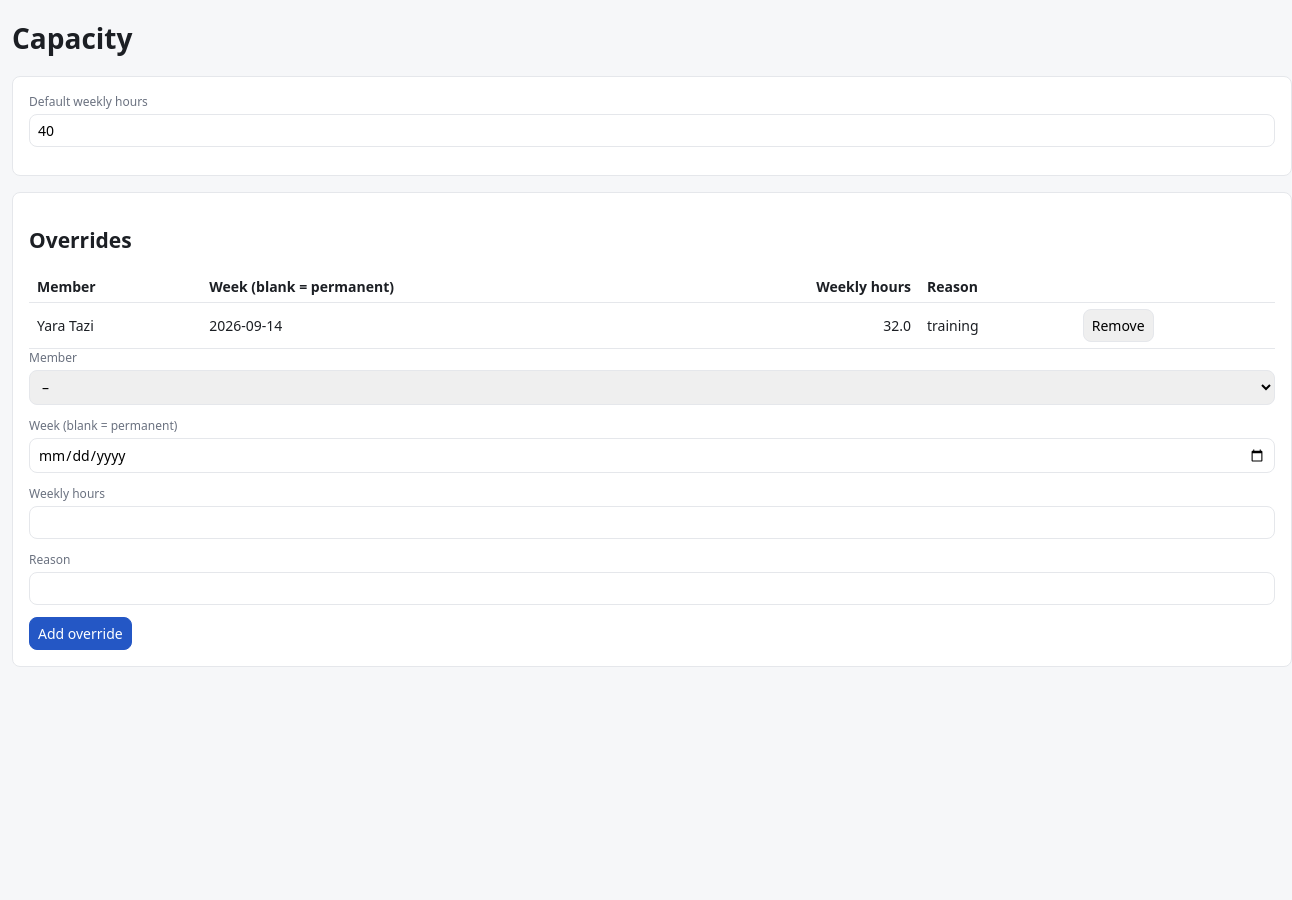
it: Capacity › shows the default and overrides, adds and removes an override
Expected: the number field showing "40" is shown, left=29, top=114, right=1275, bottom=146
Expected: the text "training" is shown, left=919, top=303, right=1075, bottom=349
Select "Yara Tazi" in the dropdown labelled "Member" at point(652, 388), box left=29, top=370, right=1275, bottom=405
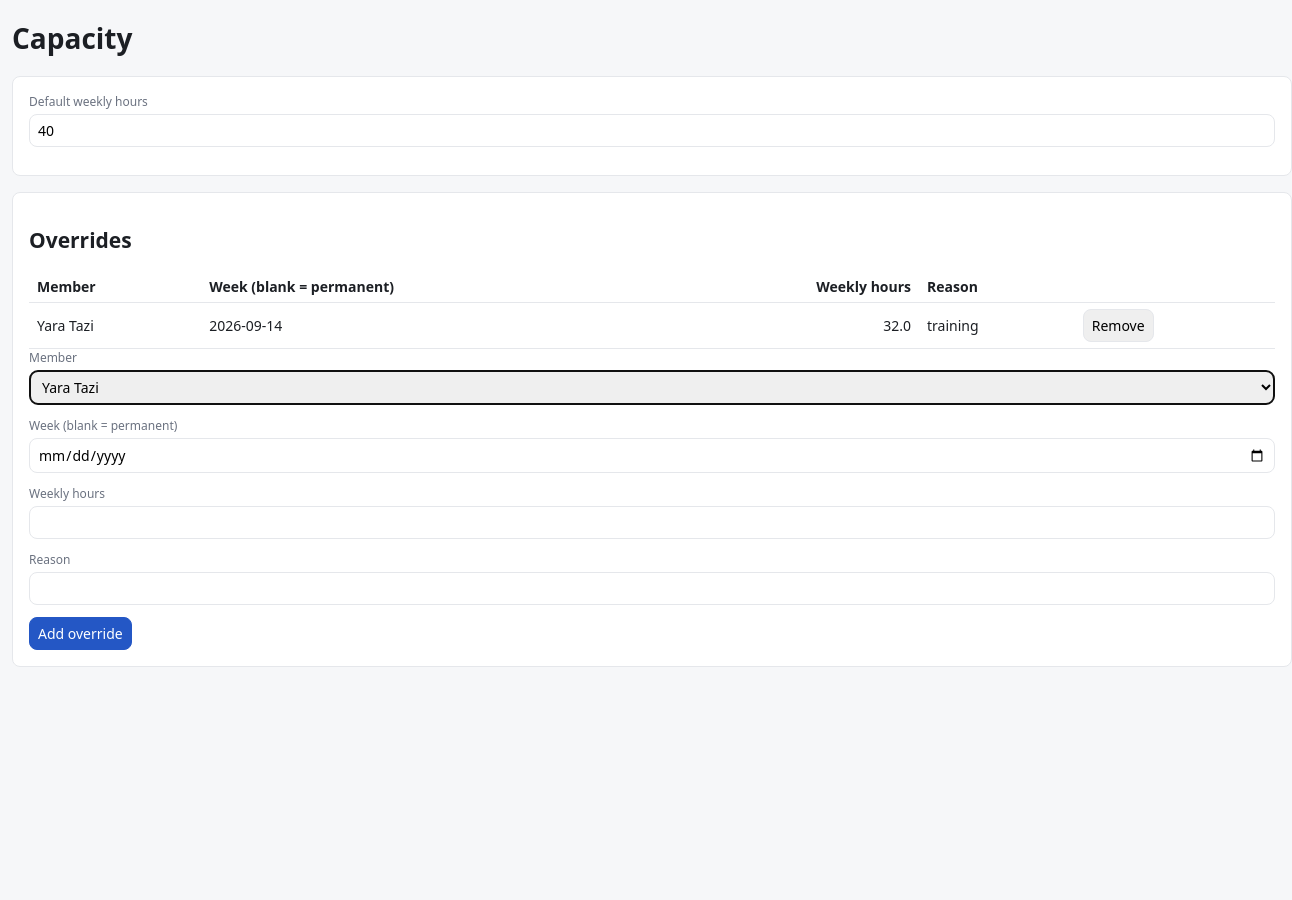
Type "20" into the number field labelled "Weekly hours" at point(652, 523), box left=29, top=506, right=1275, bottom=539
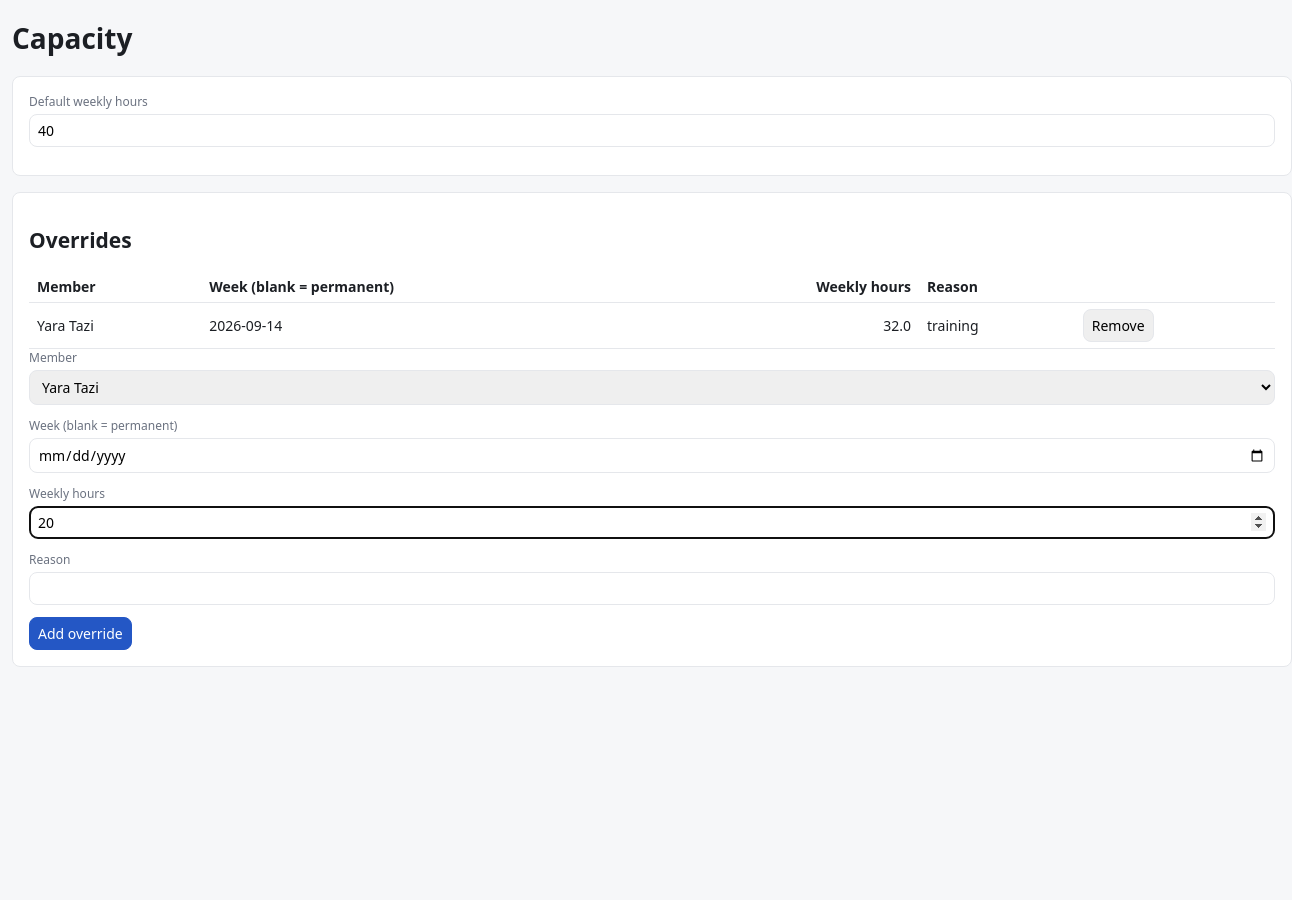
Type "internal project" into the field labelled "Reason" at point(652, 589), box left=29, top=572, right=1275, bottom=605
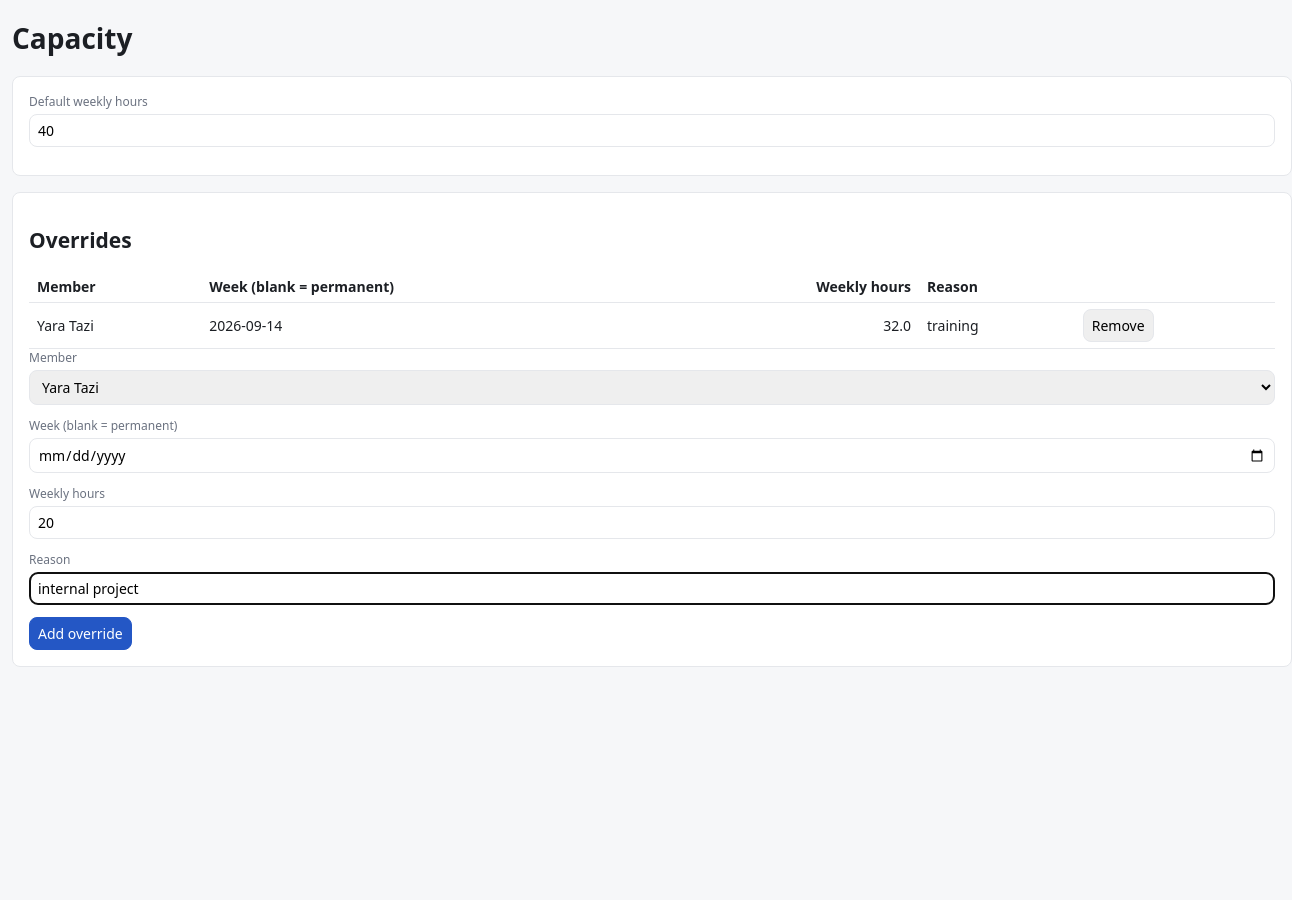
Click the button "Add override" at point(80, 634), box left=29, top=617, right=132, bottom=650
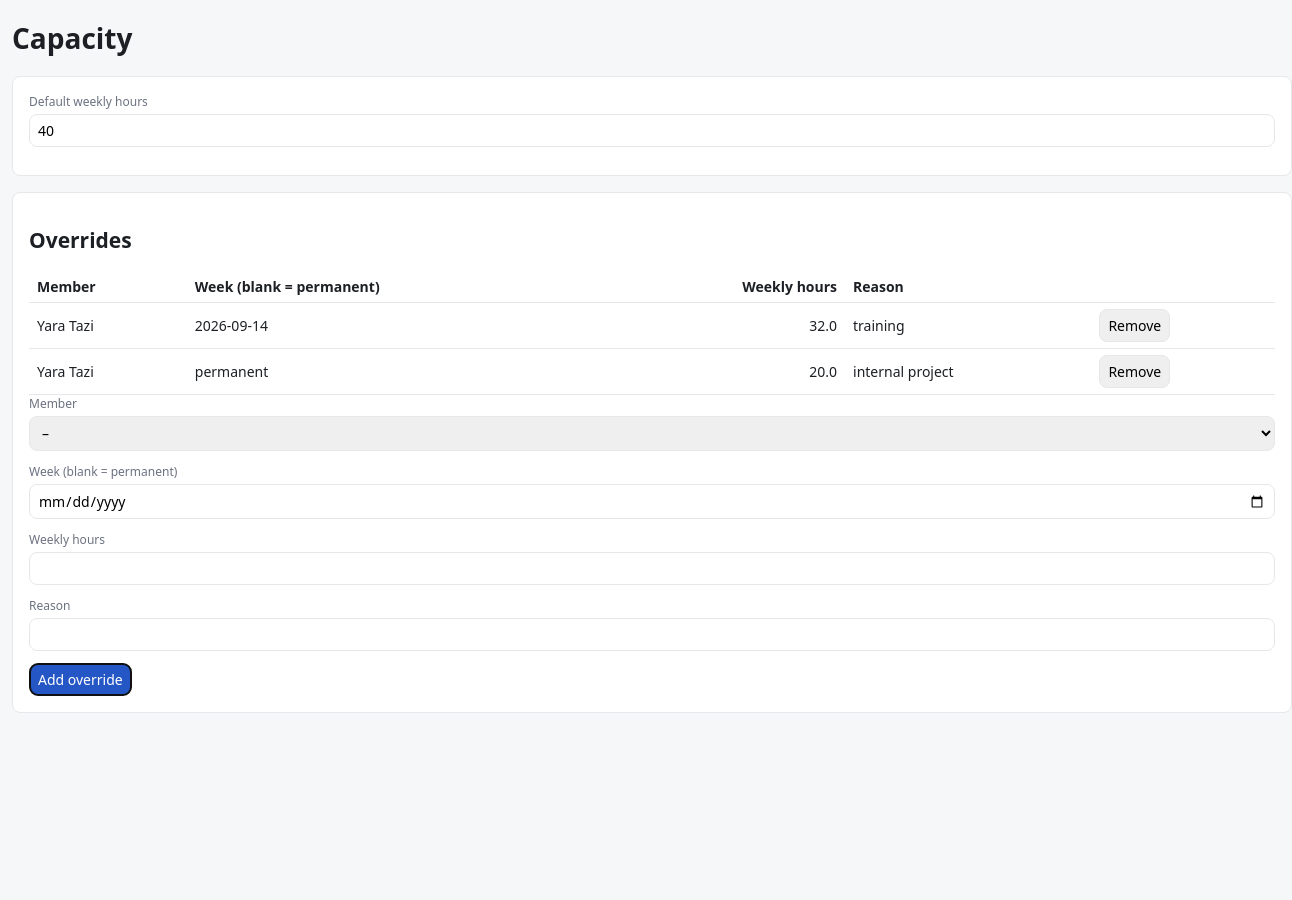
Expected: the text "internal project" is shown, left=845, top=349, right=1091, bottom=395
Expected: the text "permanent" is shown, left=187, top=349, right=611, bottom=395
Click the button "Remove" in the row of "2026-09-14" at point(1135, 326), box left=1099, top=309, right=1170, bottom=342
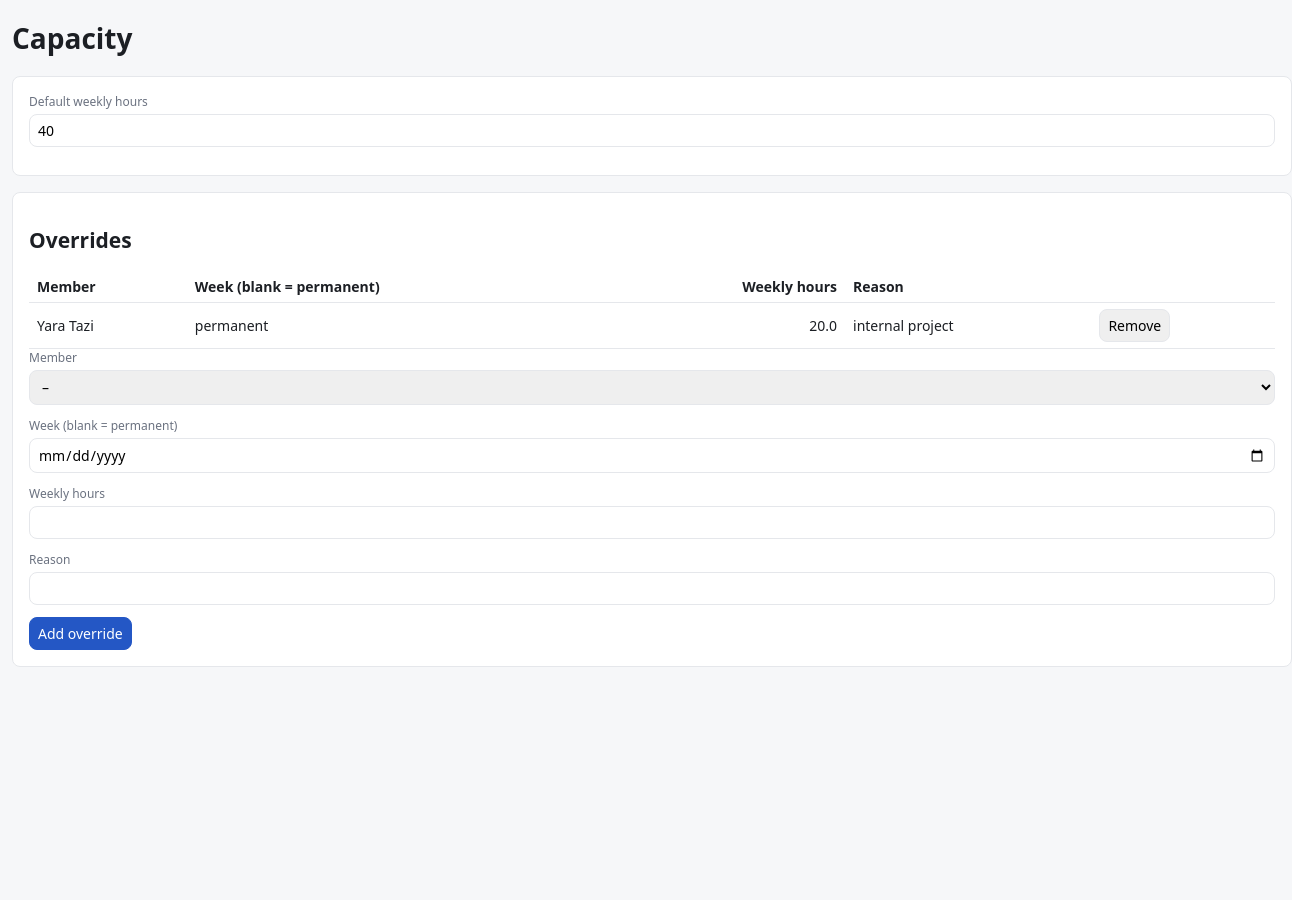
Expected: the text "training" is gone
